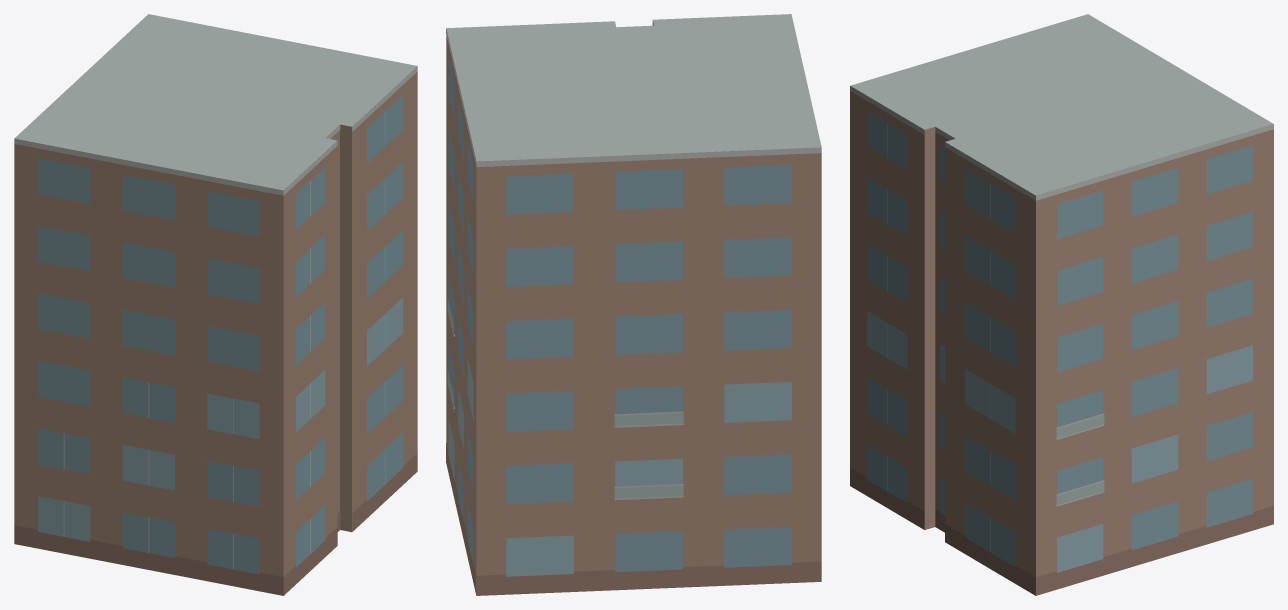
File: survey-upis-32689332.glb
3 views of the same model, side by side, from view 1: azimuth 30°, elevation 25°; view 2: azimuth 150°, elevation 25°; view 3: azimuth 270°, elevation 25° (orthographic). The views are drawn at different scales.
Visible parts, largest first — view 1: survey-upis-32689332.tmp; view 2: survey-upis-32689332.tmp; view 3: survey-upis-32689332.tmp.
Boxes of the visible parts, left/top/right/bottom form: survey-upis-32689332.tmp: left=14, top=14, right=417, bottom=595; survey-upis-32689332.tmp: left=446, top=14, right=821, bottom=595; survey-upis-32689332.tmp: left=850, top=14, right=1273, bottom=595.
Bounding box in the file's own units: 18.2 × 18.7 × 17.95.
